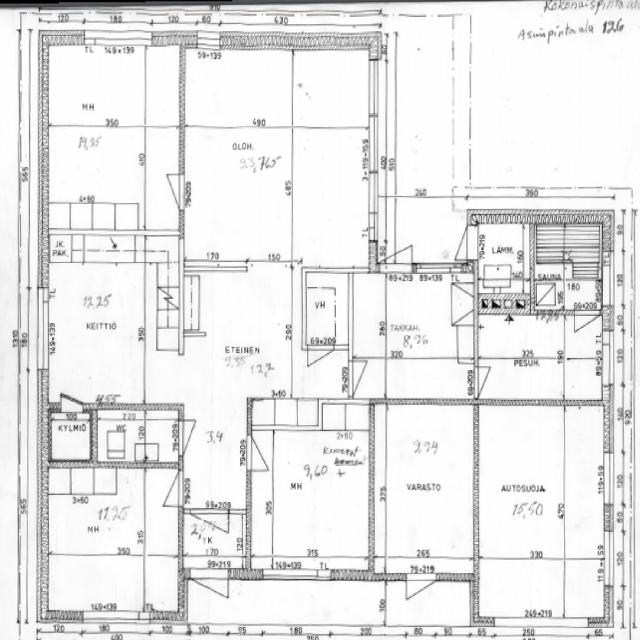door: (191, 508, 229, 560), (191, 574, 228, 627), (381, 224, 413, 273), (406, 574, 436, 619), (440, 226, 479, 260), (247, 436, 282, 472), (149, 472, 184, 507), (178, 421, 213, 456), (348, 362, 382, 397), (151, 174, 184, 210), (574, 311, 600, 346), (473, 368, 503, 396), (308, 345, 332, 380), (61, 377, 82, 412)
